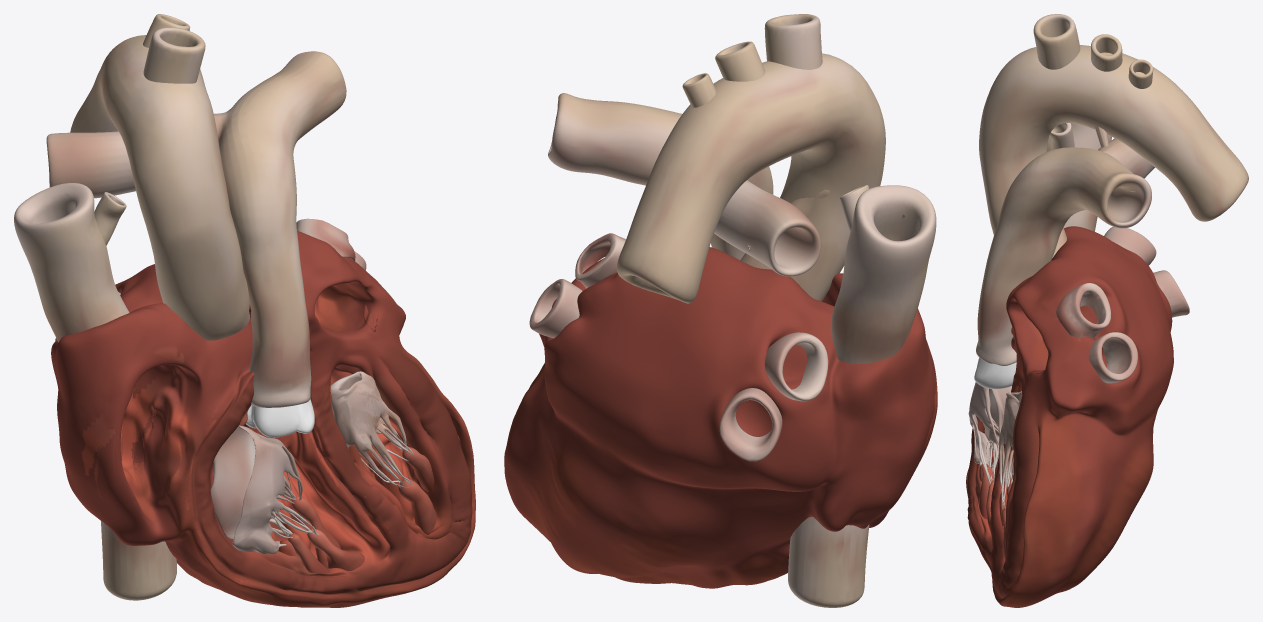
The model's file is heart-cross-section.glb.
3 renders of one model, left to right at view 1: azimuth 30°, elevation 25°; view 2: azimuth 150°, elevation 25°; view 3: azimuth 270°, elevation 25°, orthographic. The views are drawn at different scales.
Visible parts, largest first — view 1: heart body, Aorta, plmonary trunk, vena cava, tricuspid valve, mitral-bicuspid valve, papillary muscles, Pulmonary Valve, plmonary vien lt; view 2: heart body, Aorta, vena cava, plmonary trunk, plmonary vien rt, plmonary vien lt; view 3: heart body, Aorta, plmonary trunk, plmonary vien lt, tricuspid valve, plmonary vien rt, vena cava, mitral-bicuspid valve, Pulmonary Valve, papillary muscles.
Part boxes in pixels (box(x1,y1,x2,y2)): heart body: box(51, 230, 475, 607); Aorta: box(70, 14, 249, 340); plmonary trunk: box(46, 51, 346, 407); vena cava: box(14, 183, 176, 600); tricuspid valve: box(210, 425, 318, 558); mitral-bicuspid valve: box(330, 371, 413, 487); papillary muscles: box(278, 447, 436, 576); Pulmonary Valve: box(246, 399, 314, 437); plmonary vien lt: box(296, 218, 366, 270); heart body: box(504, 247, 937, 588); Aorta: box(616, 14, 885, 303); vena cava: box(788, 185, 936, 607); plmonary trunk: box(548, 93, 821, 276); plmonary vien rt: box(719, 332, 828, 461); plmonary vien lt: box(529, 233, 625, 338); heart body: box(966, 226, 1173, 607); Aorta: box(979, 14, 1248, 257); plmonary trunk: box(976, 138, 1154, 365); plmonary vien lt: box(1056, 283, 1137, 383); tricuspid valve: box(968, 382, 1011, 484); plmonary vien rt: box(1104, 226, 1189, 317); vena cava: box(1047, 123, 1111, 231); mitral-bicuspid valve: box(999, 391, 1022, 527); Pulmonary Valve: box(974, 357, 1016, 389); papillary muscles: box(979, 463, 1011, 560).
Size of the model in its own units: 7.03 by 9.42 by 4.84.
9 materials, 4 textured.
